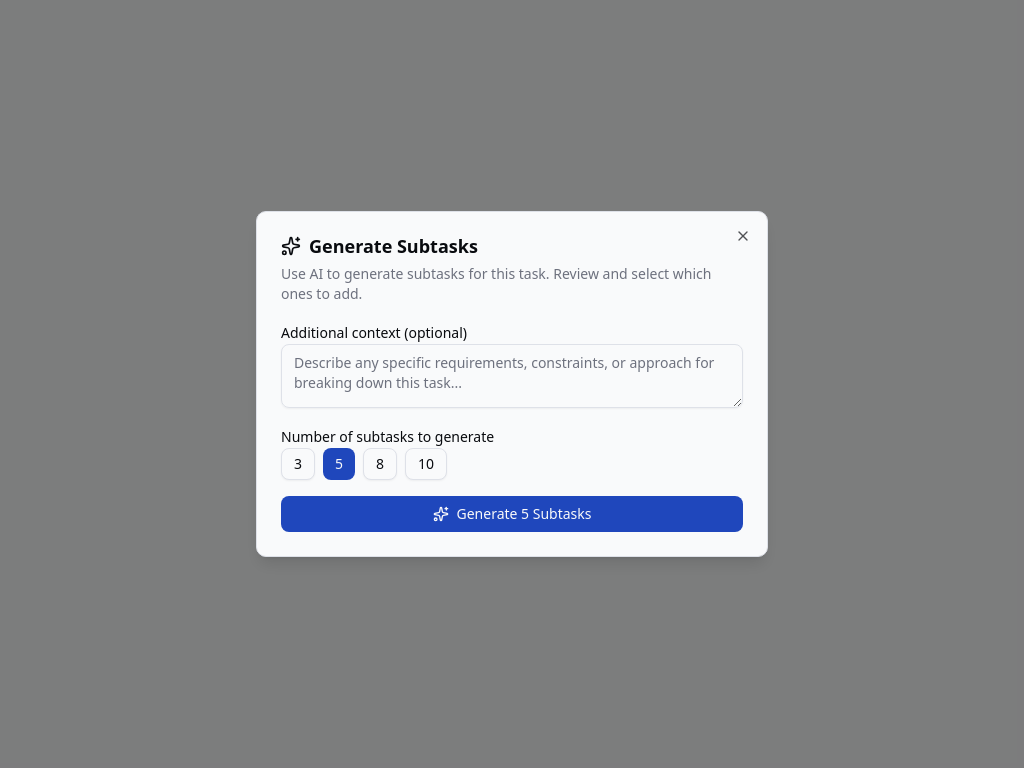
Test case: GenerateSubtasksDialog › shows loading state during generation
# Use fireEvent to avoid waiting for async handler completion
Step 1. Click the button "Generate 5 Subtasks" → [512, 514], box [281, 496, 743, 532]
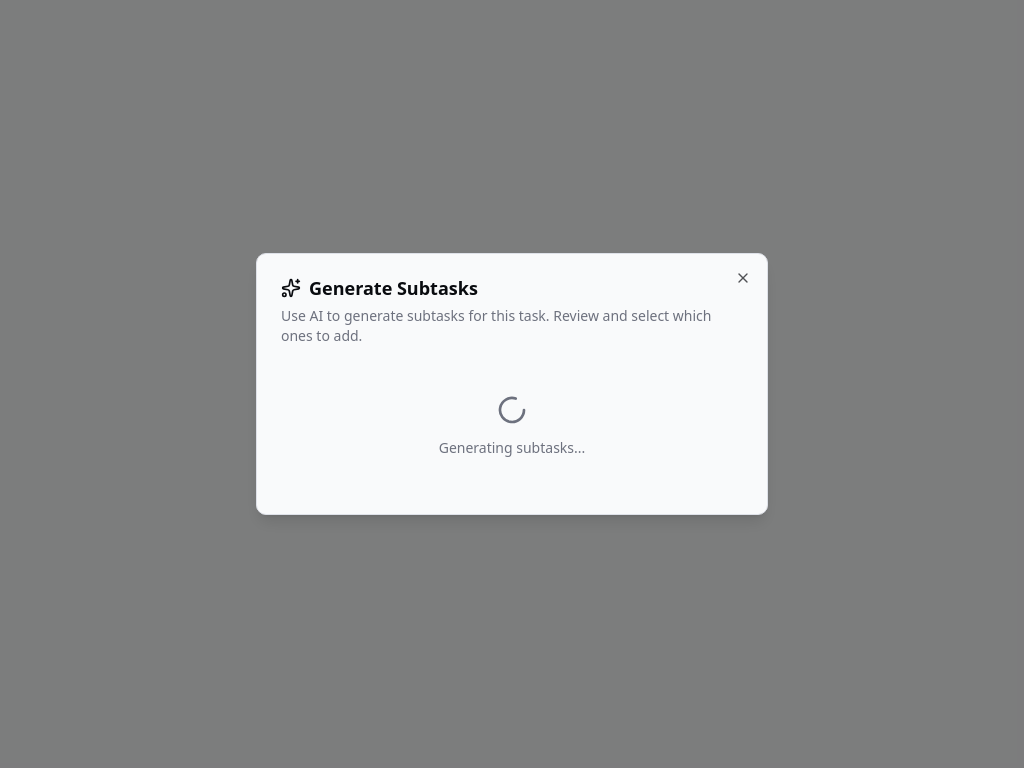
Result: the text "Generating subtasks..." is shown at [439, 438, 585, 458]
